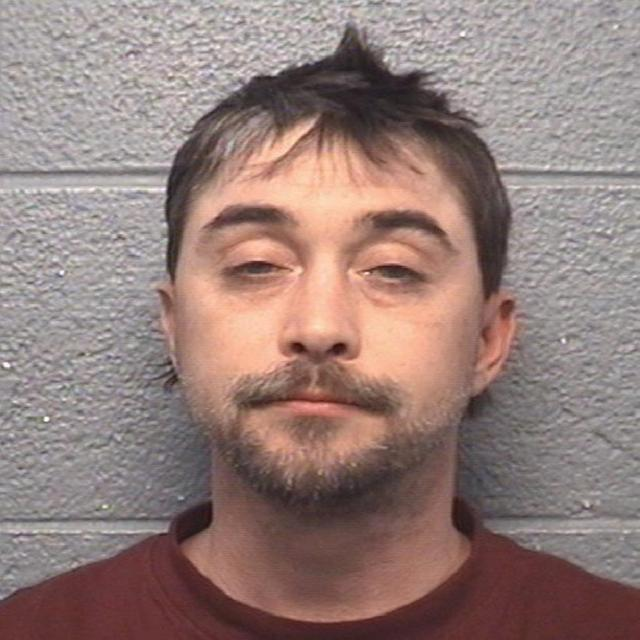nomask: (174, 116, 483, 493)
